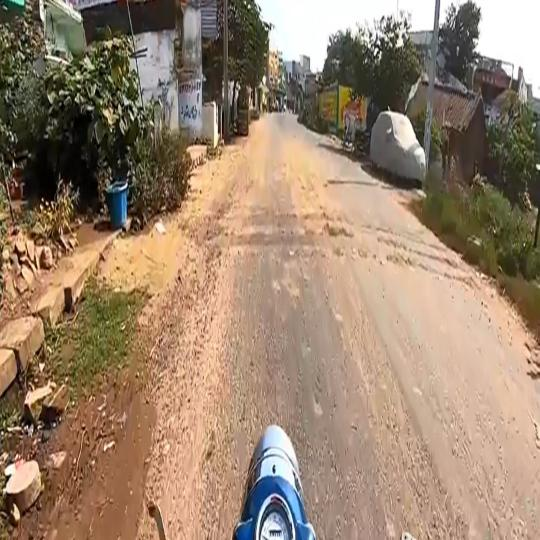Speed Bump: (207, 234, 465, 282), (215, 211, 458, 257)
